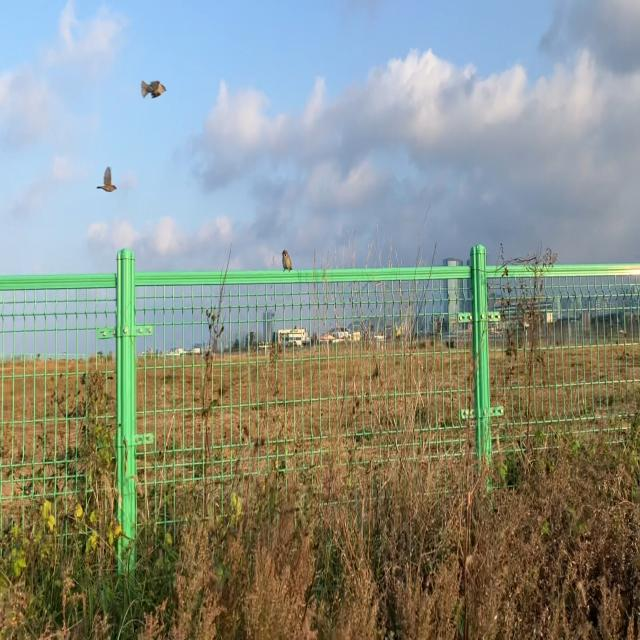bird: (96, 165, 118, 195), (142, 77, 167, 102), (280, 249, 294, 273)
